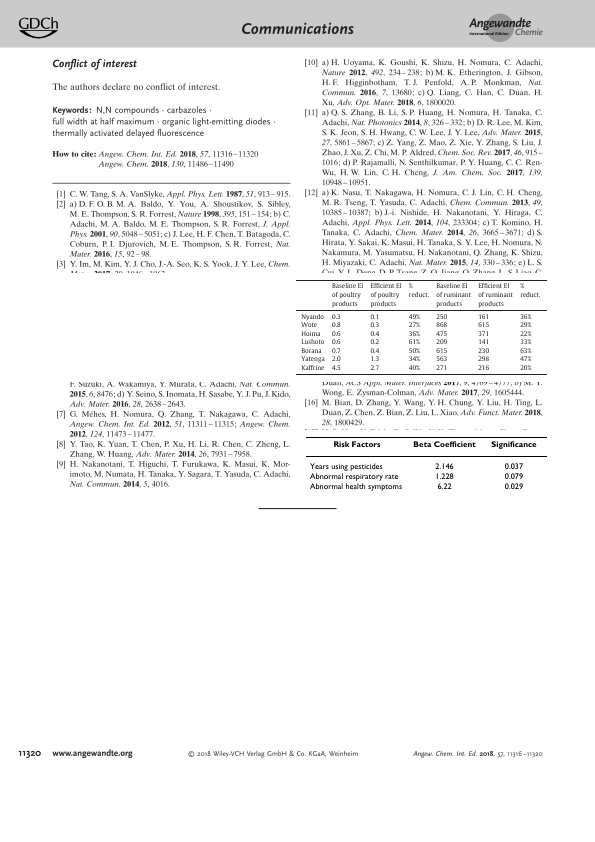borderless: (295, 278, 547, 374), (304, 435, 548, 500)
cell: (309, 482, 403, 492), (435, 283, 472, 308), (477, 283, 514, 308), (309, 472, 399, 482), (331, 283, 364, 308), (370, 283, 403, 308), (309, 462, 383, 471), (412, 440, 476, 449), (332, 440, 381, 449), (490, 440, 537, 449), (519, 283, 542, 299), (408, 283, 430, 299), (300, 364, 326, 373), (300, 338, 325, 347), (503, 472, 524, 482), (503, 482, 524, 492), (300, 356, 326, 364), (434, 472, 454, 482), (300, 313, 325, 321), (503, 462, 524, 471), (300, 347, 323, 355), (434, 462, 454, 471), (300, 330, 322, 338), (300, 321, 318, 330), (436, 482, 452, 492), (408, 321, 421, 330), (435, 321, 448, 330), (477, 321, 490, 330), (519, 321, 532, 330), (408, 338, 421, 347), (435, 338, 448, 347), (477, 338, 490, 347), (519, 338, 532, 347), (408, 364, 421, 373), (435, 364, 448, 373), (477, 364, 490, 373), (519, 364, 532, 373), (408, 313, 421, 321), (435, 313, 448, 321), (477, 313, 490, 321), (519, 313, 532, 321), (408, 330, 421, 338), (435, 330, 448, 338), (477, 330, 490, 338), (519, 330, 532, 338), (408, 347, 421, 355), (435, 347, 448, 355), (477, 347, 490, 355), (519, 347, 532, 355), (408, 356, 421, 364), (435, 356, 448, 364), (477, 356, 490, 364), (519, 356, 532, 364), (331, 321, 342, 330), (331, 338, 342, 347), (331, 364, 342, 373), (370, 321, 380, 330), (370, 338, 380, 347), (370, 364, 380, 373), (331, 313, 342, 321), (331, 330, 342, 338), (331, 347, 342, 355), (331, 356, 342, 364), (370, 313, 380, 321), (370, 330, 380, 338), (370, 347, 380, 355), (370, 356, 380, 364)
